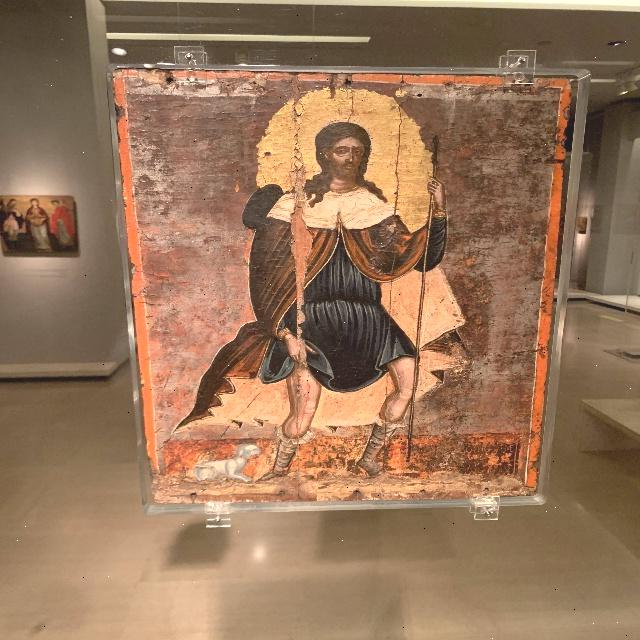saint: (266, 95, 437, 482)
